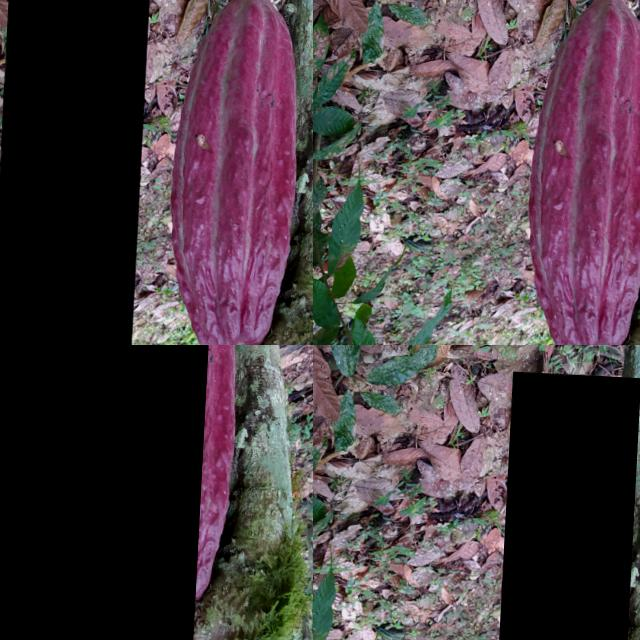Sana: (0, 345, 221, 640), (0, 0, 155, 345), (499, 368, 640, 640), (431, 127, 489, 300), (355, 198, 403, 318), (486, 3, 512, 89), (313, 142, 331, 260), (550, 217, 572, 280), (516, 0, 539, 46)
